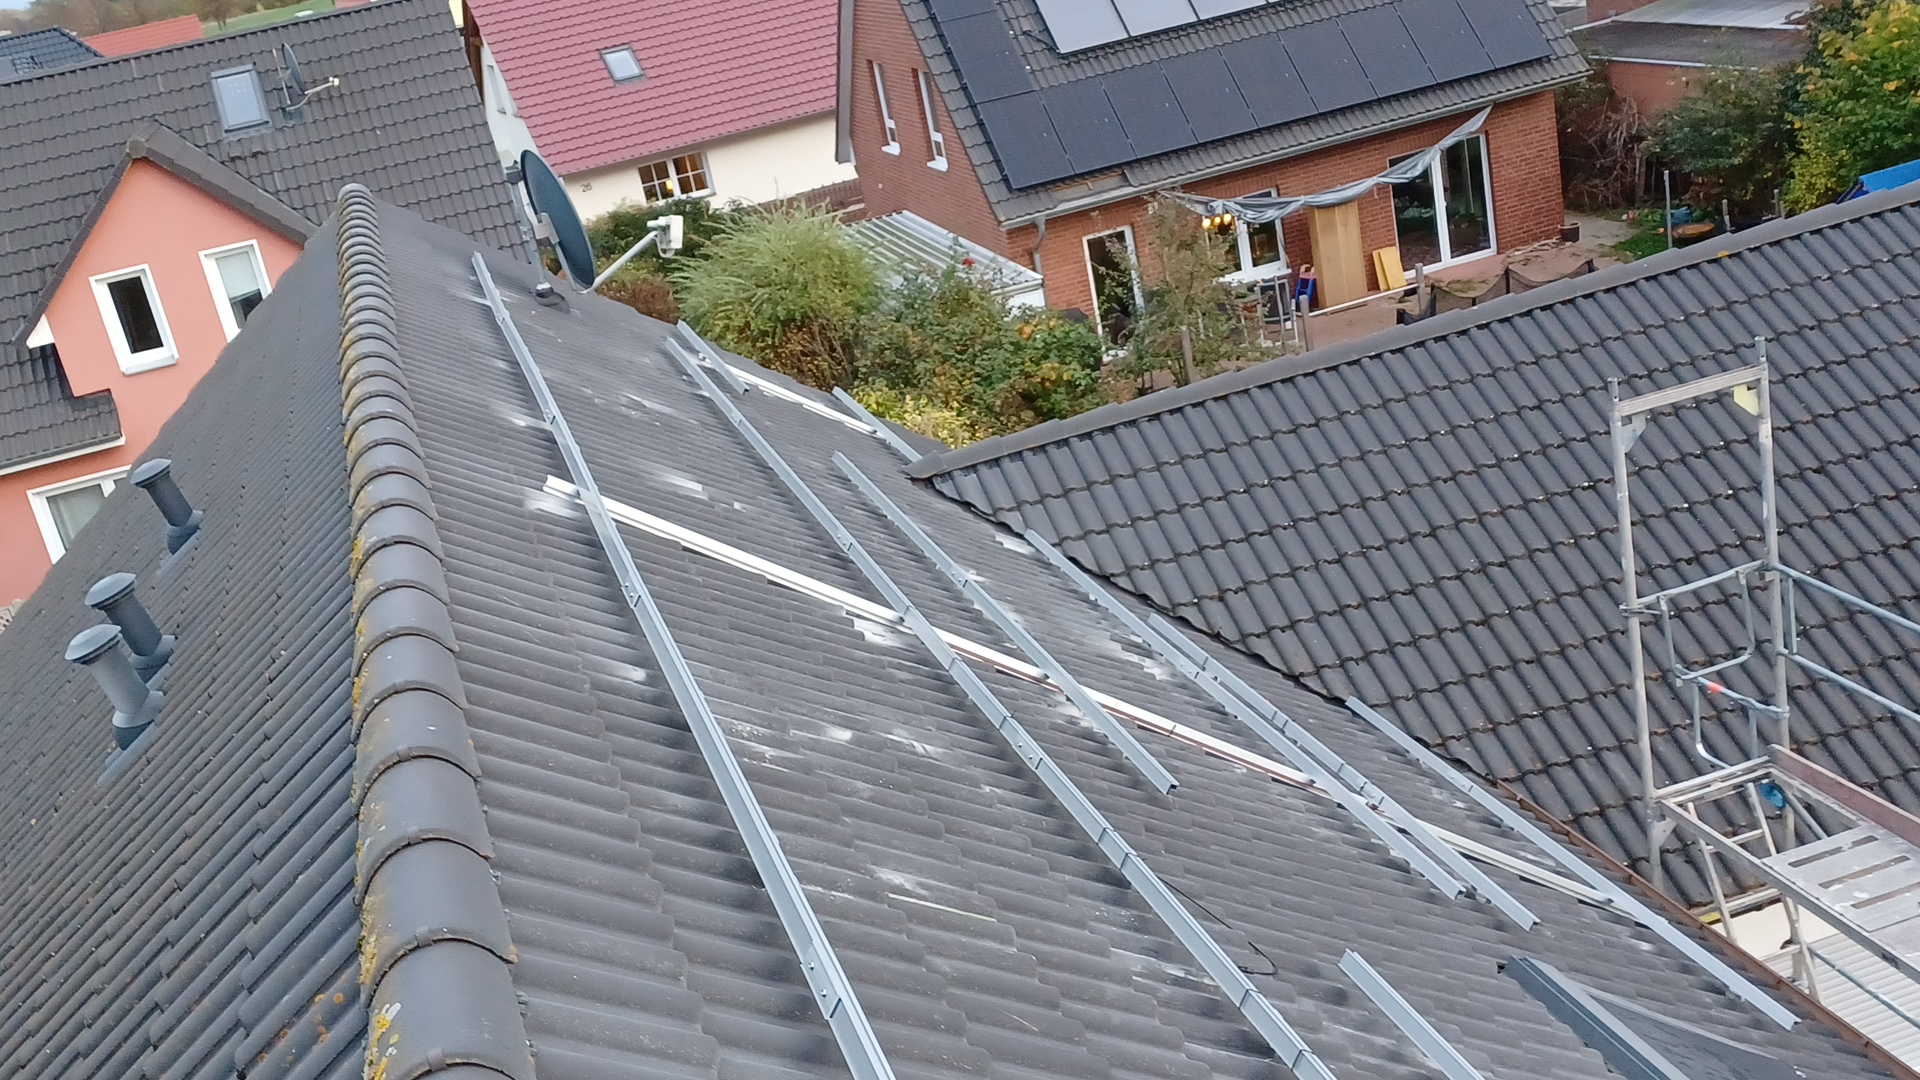hook: (1470, 884, 1493, 906), (1284, 729, 1302, 746), (1727, 986, 1745, 1001), (1501, 819, 1518, 833), (1212, 674, 1221, 683)
